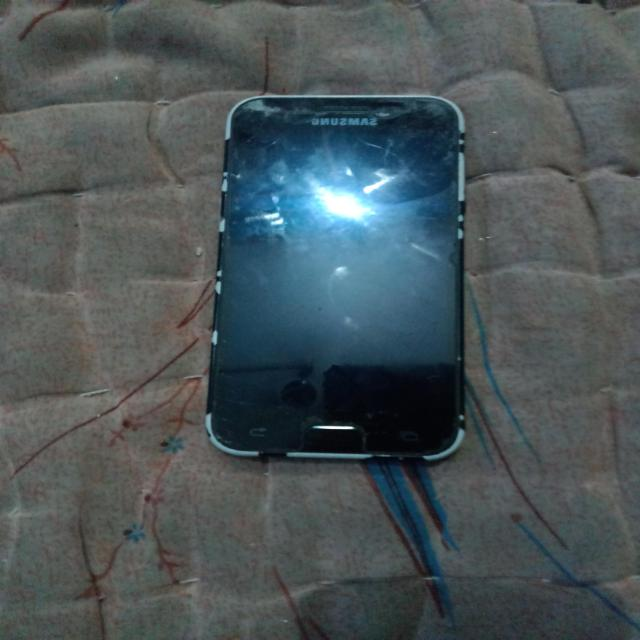mobile: (203, 95, 466, 466)
